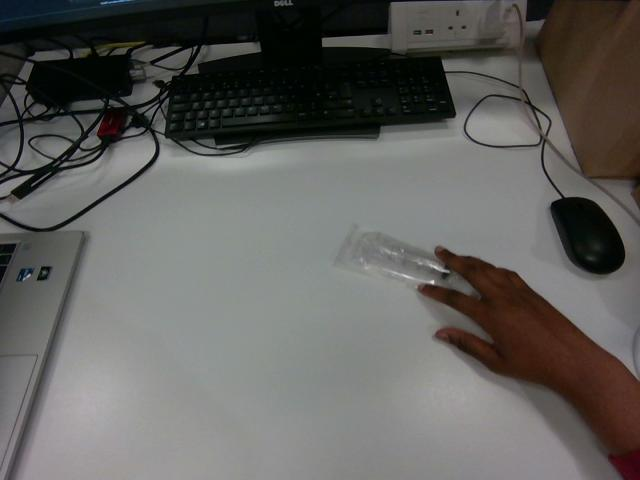syringe: (334, 224, 477, 295)
